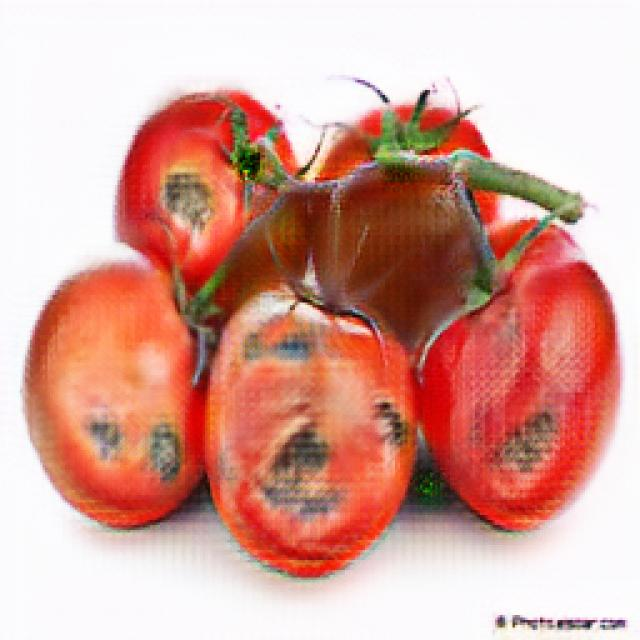overripe tomato: (204, 290, 419, 574), (424, 222, 622, 530), (24, 266, 204, 522), (118, 94, 302, 291)
